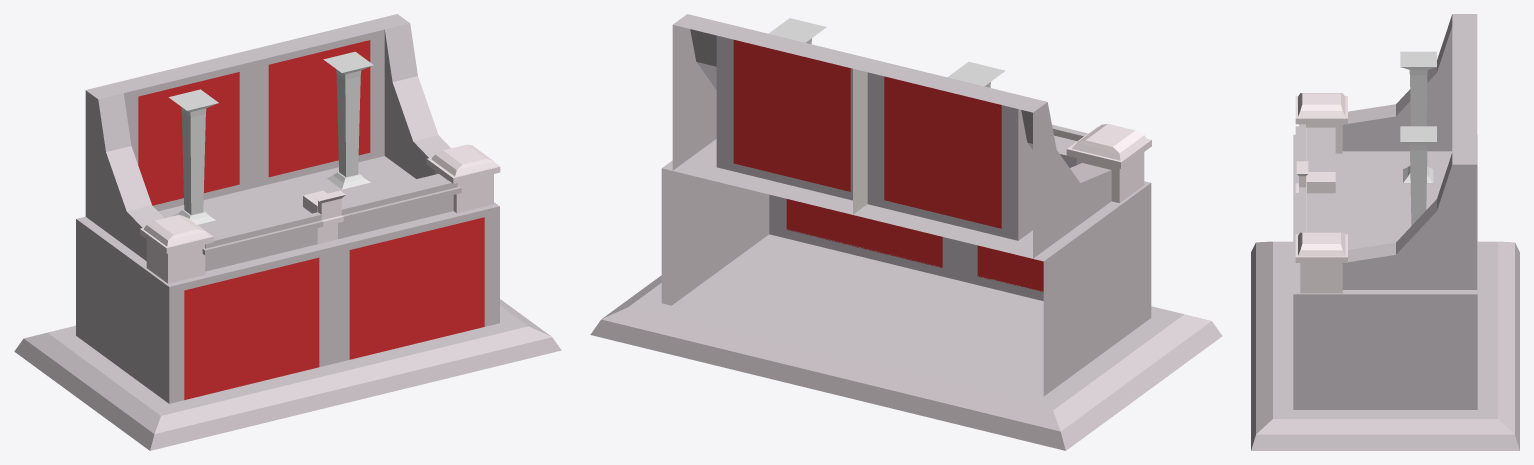
File: Pilar.fbx
The picture shows the model from 3 angles, left to right: view 1: azimuth 30°, elevation 25°; view 2: azimuth 150°, elevation 25°; view 3: azimuth 270°, elevation 25°; orthographic projection. The views are drawn at different scales.
Visible parts, largest first — view 1: Pilar; view 2: Pilar; view 3: Pilar.
Boxes of the visible parts, box(x1,y1,x2,y2) form: Pilar: box(14, 14, 561, 450); Pilar: box(590, 14, 1222, 450); Pilar: box(1251, 14, 1519, 450).
Bounding box in the file's own units: 691 × 425 × 395.
